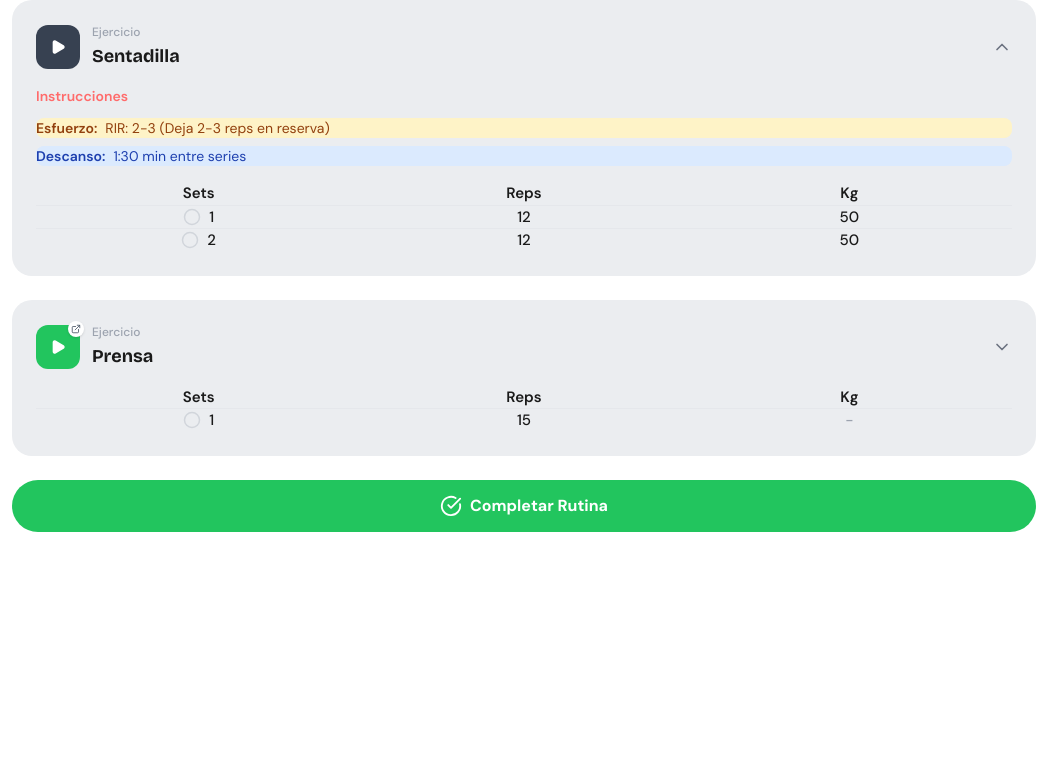
Test case: WorkoutContent › Expand/Collapse › should toggle exercise instructions on chevron click
Expected: the text "RIR: 2-3 (Deja 2-3 reps en reserva)" is shown, [105, 118, 330, 138]
Note: Click to collapse
Step 1. Click the button without text in the row of "Sentadilla" → [1002, 47], box [992, 37, 1012, 57]
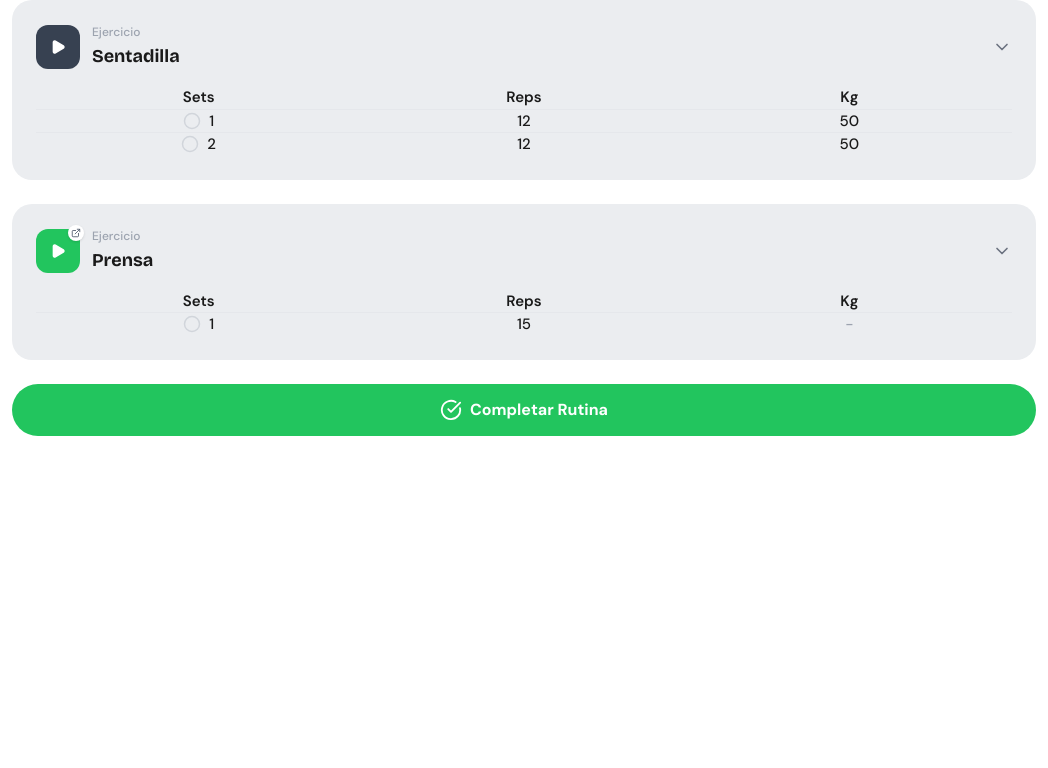
Expected: the text "RIR: 2-3" is gone
Note: Click to expand again
Step 2. Click the button without text in the row of "Sentadilla" → [1002, 47], box [992, 37, 1012, 57]
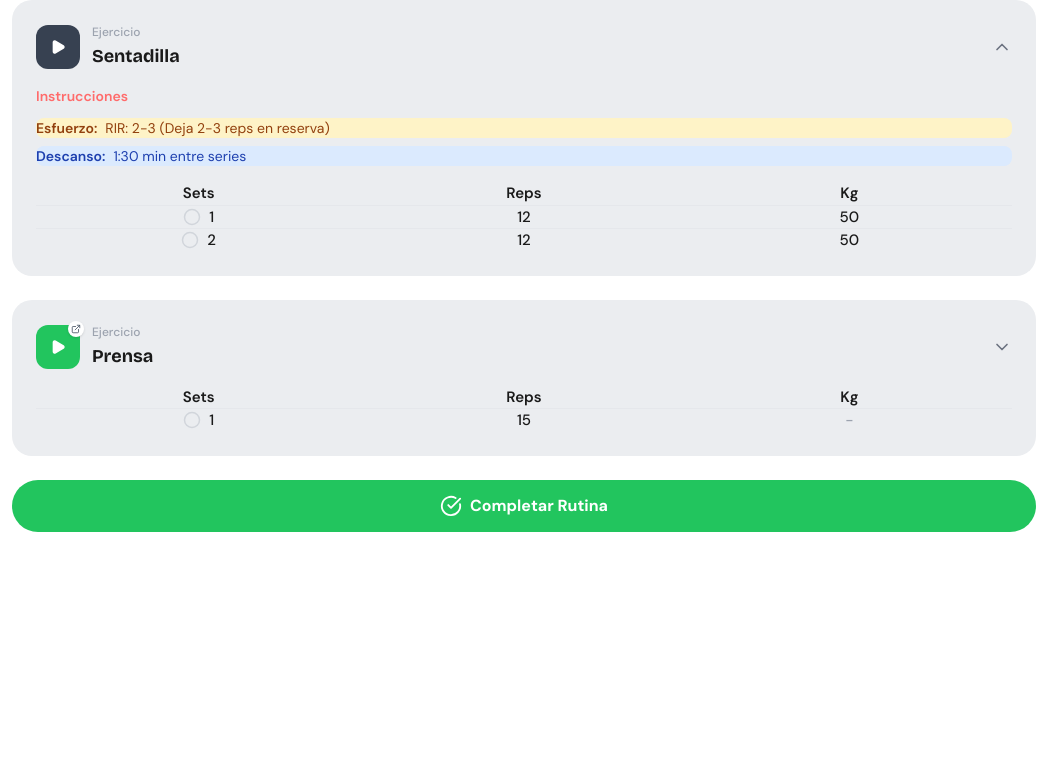
Expected: the text "RIR: 2-3 (Deja 2-3 reps en reserva)" is shown, [105, 118, 330, 138]
